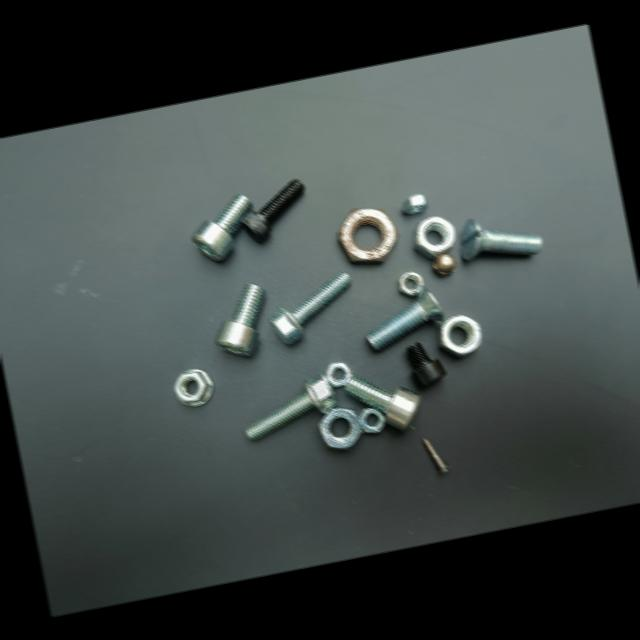bolt: (246, 374, 338, 439), (269, 271, 352, 343), (366, 286, 445, 351), (345, 373, 421, 430), (241, 178, 305, 242), (192, 194, 253, 261), (215, 283, 266, 356), (459, 218, 543, 260), (406, 341, 447, 386), (422, 437, 450, 473)
nuts: (337, 208, 399, 263), (437, 314, 482, 357), (319, 407, 364, 449), (413, 216, 455, 258), (174, 369, 214, 406), (323, 362, 352, 387), (358, 407, 385, 433), (398, 271, 424, 297), (432, 251, 456, 276), (402, 194, 429, 214)
